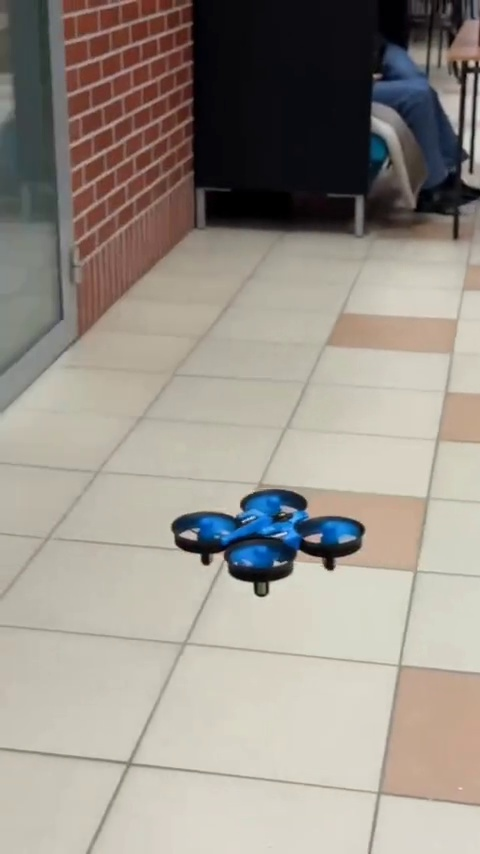drone: (164, 490, 373, 596)
